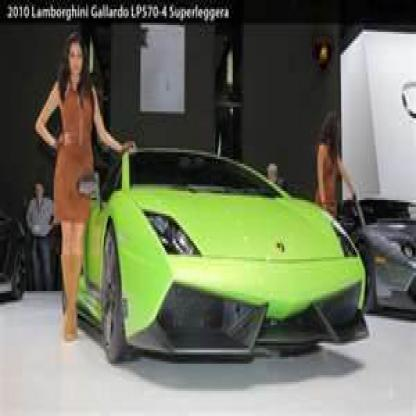Vehicle: (62, 143, 373, 371)
